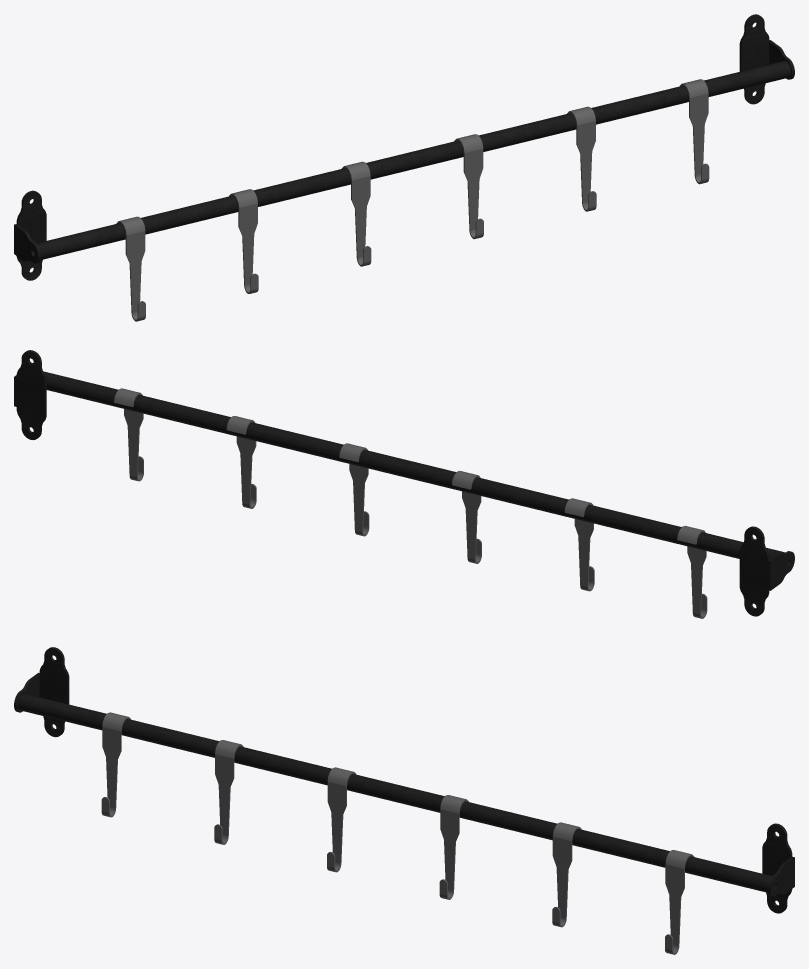
File: 061 - stand divari jadid meshki.glb
The picture shows the model from 3 angles, top to bottom: view 1: azimuth 30°, elevation 25°; view 2: azimuth 150°, elevation 25°; view 3: azimuth 330°, elevation 25°; orthographic projection.
Parts seen in each view (by area): view 1: Group#160 [3924], Group#1 [30946] (×6), [2247], [1364], Group#8 [1900]; view 2: Group#160 [3924], Group#1 [30946] (×6), [2247], [1364], Group#8 [1900]; view 3: Group#160 [3924], Group#1 [30946] (×6), [1364], [2247], Group#159 [2783].
Part boxes in pixels (left/top/right/bottom): Group#160 [3924]: left=37, top=61, right=790, bottom=259; Group#1 [30946] (×6): left=116, top=79, right=709, bottom=321; [2247]: left=739, top=14, right=769, bottom=104; [1364]: left=16, top=190, right=46, bottom=280; Group#8 [1900]: left=14, top=224, right=41, bottom=263; Group#160 [3924]: left=43, top=371, right=785, bottom=559; Group#1 [30946] (×6): left=114, top=388, right=707, bottom=618; [2247]: left=16, top=350, right=46, bottom=440; [1364]: left=739, top=526, right=769, bottom=616; Group#8 [1900]: left=767, top=551, right=794, bottom=590; Group#160 [3924]: left=18, top=693, right=771, bottom=892; Group#1 [30946] (×6): left=101, top=712, right=694, bottom=954; [1364]: left=39, top=647, right=69, bottom=737; [2247]: left=762, top=823, right=792, bottom=913; Group#159 [2783]: left=767, top=856, right=794, bottom=896.
Bounding box in the file's own units: 0.806 × 0.1315 × 0.0565.
3 materials, 2 textured.
